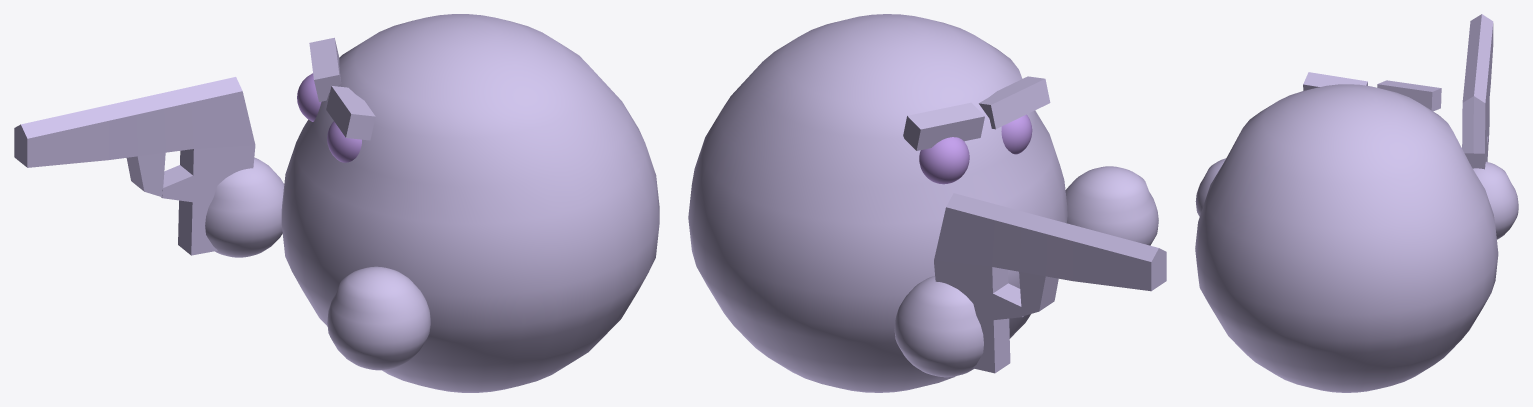
File: Player.glb
3 views of the same model, side by side, from view 1: azimuth 30°, elevation 25°; view 2: azimuth 150°, elevation 25°; view 3: azimuth 270°, elevation 25° (orthographic). The views are drawn at different scales.
Parts seen in each view (by area): view 1: Sphere, Cube.002, Sphere.003, Sphere.004, Cube.001, Cube, Sphere.002, Sphere.001; view 2: Sphere, Cube.002, Sphere.004, Sphere.003, Cube, Cube.001, Sphere.001, Sphere.002; view 3: Sphere, Cube.002, Sphere.004, Cube, Cube.001, Sphere.003.
Part boxes in pixels (<box>): Sphere: <box>281,14,659,392</box>; Cube.002: <box>14,77,255,255</box>; Sphere.003: <box>327,266,430,370</box>; Sphere.004: <box>205,157,284,257</box>; Cube.001: <box>326,86,375,140</box>; Cube: <box>309,37,341,101</box>; Sphere.002: <box>327,121,361,162</box>; Sphere.001: <box>297,73,321,121</box>; Sphere: <box>688,14,1067,392</box>; Cube.002: <box>934,193,1166,373</box>; Sphere.004: <box>894,276,983,377</box>; Sphere.003: <box>1065,166,1158,245</box>; Cube: <box>903,102,984,150</box>; Cube.001: <box>979,76,1050,129</box>; Sphere.001: <box>919,137,969,184</box>; Sphere.002: <box>1001,114,1032,154</box>; Sphere: <box>1195,84,1498,392</box>; Cube.002: <box>1462,14,1493,169</box>; Sphere.004: <box>1473,161,1518,239</box>; Cube: <box>1377,80,1441,111</box>; Cube.001: <box>1303,72,1367,90</box>; Sphere.003: <box>1195,158,1225,216</box>.
Size of the model in its own units: 3.22 by 2.01 by 2.13.
